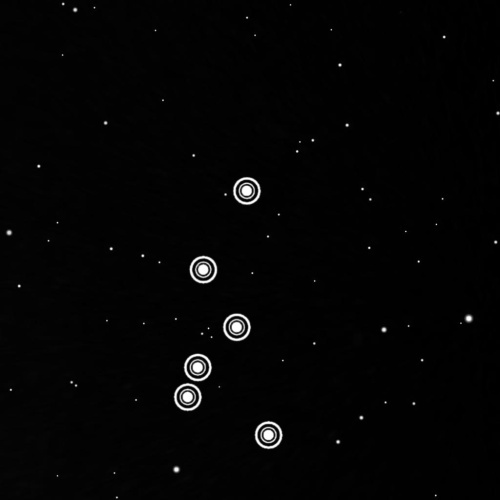cassiopeia: (166, 171, 288, 456)
